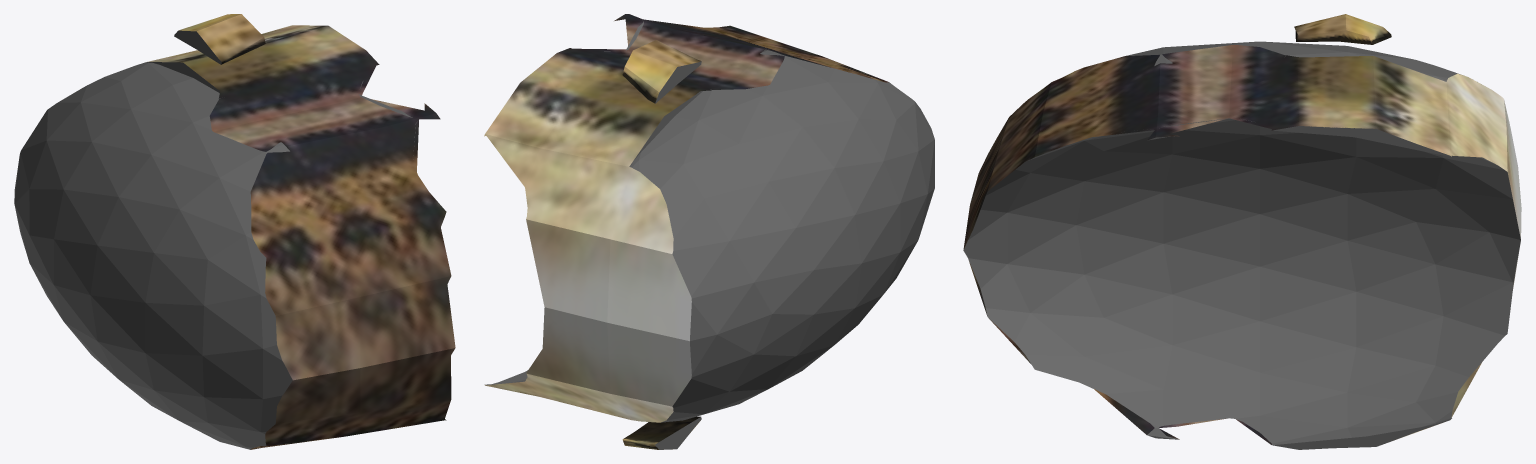
File: link_3_composite.obj
3 renders of one model, left to right at view 1: azimuth 30°, elevation 25°; view 2: azimuth 150°, elevation 25°; view 3: azimuth 270°, elevation 25°, orthographic. The views are drawn at different scales.
Size of the model in its own units: 0.00201 by 0.00264 by 0.00323.
1 material, 1 textured.
